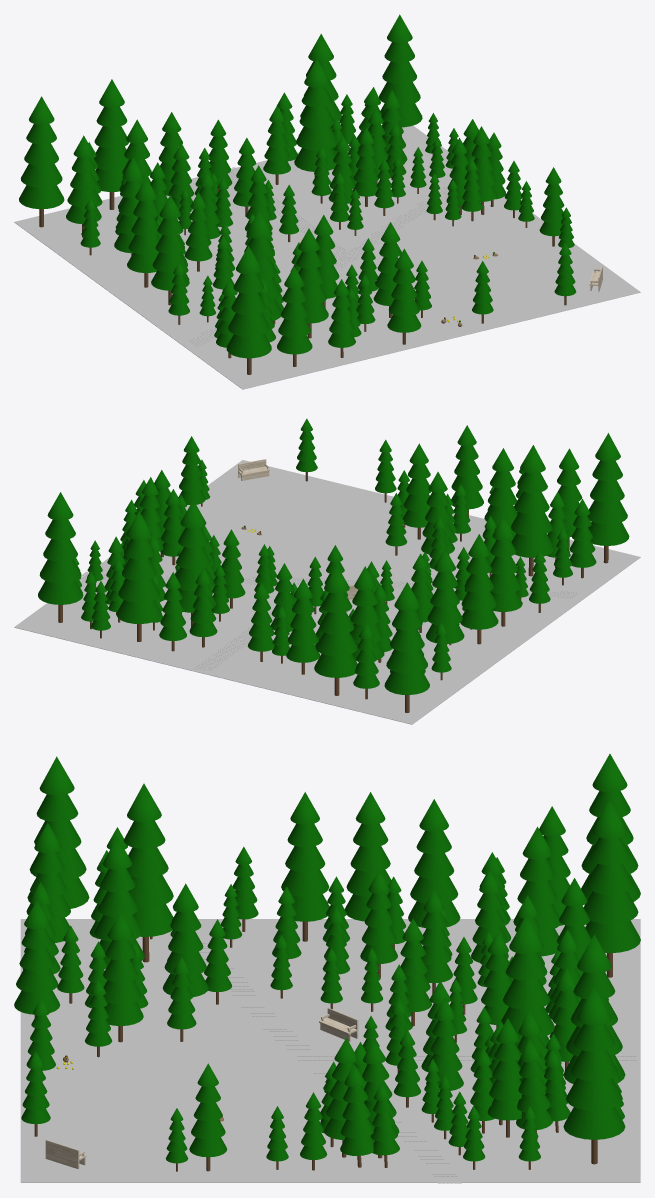
Rendered from park.fbx.
3 views of the same model, one above another, from view 1: azimuth 30°, elevation 25°; view 2: azimuth 150°, elevation 25°; view 3: azimuth 270°, elevation 25° (orthographic). The views are drawn at different scales.
Visible parts, largest first — view 1: pCube64, pCone45, polySurface58, pCone69, pCone22, pCone72, pCone21, pCone70, pCone13, pCone59, pCube50, pCone58 (+35 smaller); view 2: pCube64, polySurface58, pCone45, pCone70, pCone22, pCone71, pCone21, pCone69, pCone72, pCone59, pCone58, pCone57 (+33 smaller); view 3: pCube64, polySurface58, pCone45, pCone13, pCone69, pCone70, pCone21, pCube50, pCone58, pCone72, pCone57, pCone59 (+51 smaller).
Part boxes in pixels (x1,y1,x2,y2): pCube64: (14, 125, 640, 389); pCone45: (226, 210, 355, 374); polySurface58: (398, 237, 560, 312); pCone69: (446, 119, 505, 221); pCone22: (19, 96, 64, 227); pCone72: (294, 59, 337, 185); pCone21: (94, 79, 129, 209); pCone70: (379, 14, 422, 136); pCone13: (357, 87, 407, 183); pCone59: (127, 177, 159, 287); pCube50: (189, 167, 448, 346); pCone58: (151, 195, 189, 305); pCube64: (14, 460, 640, 724); polySurface58: (205, 488, 384, 564); pCone45: (482, 433, 629, 576); pCone70: (38, 492, 83, 622); pCone22: (384, 582, 429, 712); pCone71: (116, 511, 161, 641); pCone21: (314, 565, 357, 695); pCone69: (120, 470, 186, 565); pCone72: (176, 500, 215, 627); pCone59: (460, 534, 498, 644); pCone58: (489, 516, 522, 626); pCone57: (426, 548, 464, 644); pCube64: (20, 919, 640, 1182); polySurface58: (53, 1056, 297, 1159); pCone45: (22, 756, 173, 974); pCone13: (469, 1011, 570, 1139); pCone69: (320, 1037, 399, 1167); pCone70: (563, 986, 625, 1164); pCone21: (583, 800, 640, 977); pCube50: (170, 931, 638, 1183); pCone58: (281, 792, 329, 941); pCone72: (501, 915, 554, 1062); pCone57: (408, 799, 460, 928); pCone59: (345, 792, 391, 926).
Bounding box in the file's own units: 25.32 × 8.02 × 25.1.
